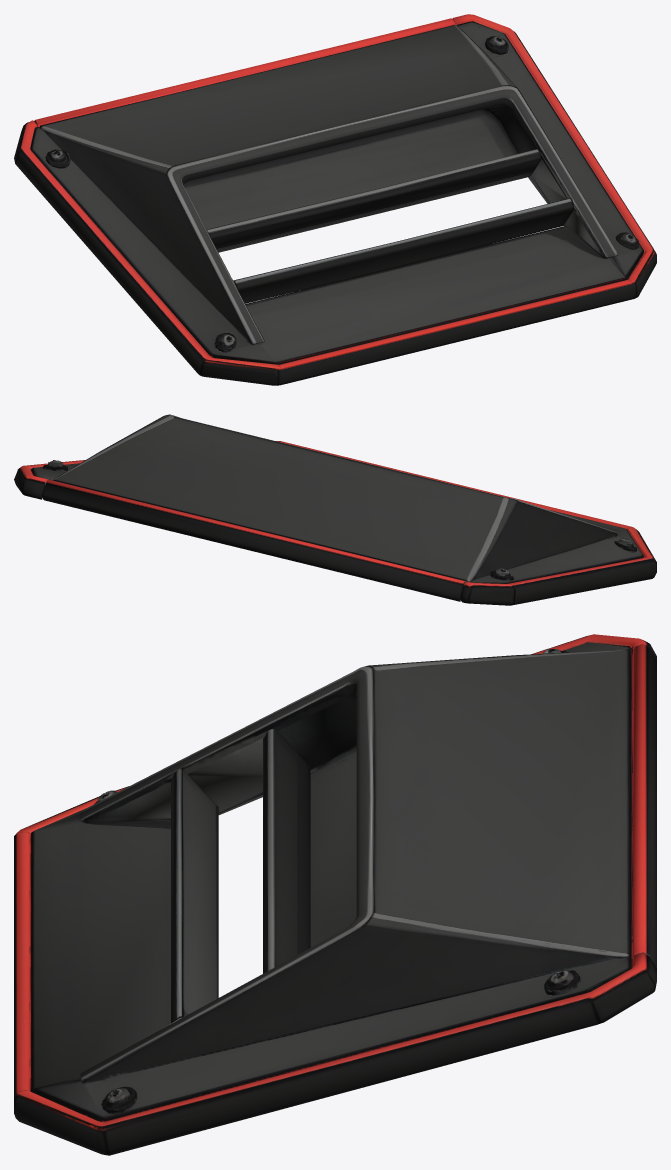
The model's file is blitz-lightweight_body.glb.
3 renders of one model, top to bottom at view 1: azimuth 30°, elevation 25°; view 2: azimuth 150°, elevation 25°; view 3: azimuth 270°, elevation 25°, orthographic. The views are drawn at different scales.
Visible parts, largest first — view 1: tripo_node_7f64b388-9eb9-48bb-b9a1-2c5af5d1bfd1; view 2: tripo_node_7f64b388-9eb9-48bb-b9a1-2c5af5d1bfd1; view 3: tripo_node_7f64b388-9eb9-48bb-b9a1-2c5af5d1bfd1.
Boxes of the visible parts, x1=… form: tripo_node_7f64b388-9eb9-48bb-b9a1-2c5af5d1bfd1: x1=14, y1=14, x2=656, y2=385; tripo_node_7f64b388-9eb9-48bb-b9a1-2c5af5d1bfd1: x1=14, y1=414, x2=656, y2=605; tripo_node_7f64b388-9eb9-48bb-b9a1-2c5af5d1bfd1: x1=14, y1=634, x2=656, y2=1155.
Bounding box in the file's own units: 0.85 × 0.2146 × 0.6271.
1 material, 1 textured.
